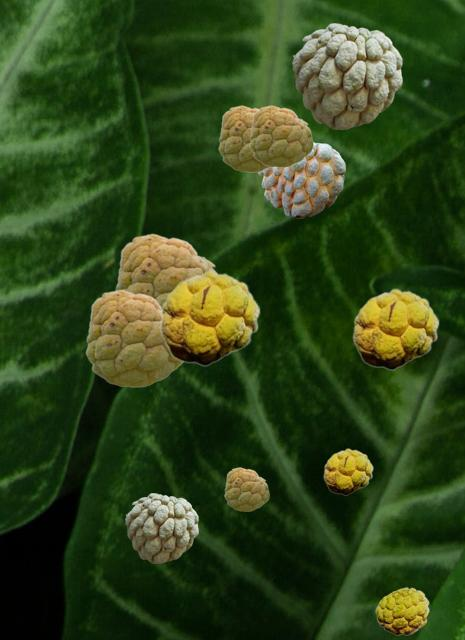atis: (292, 23, 401, 128), (85, 289, 183, 386), (159, 270, 259, 365), (115, 233, 217, 303), (352, 288, 438, 369), (258, 142, 344, 217), (125, 493, 197, 562), (249, 105, 312, 166), (218, 105, 271, 171), (375, 587, 428, 634), (323, 448, 372, 494), (224, 467, 268, 510)
